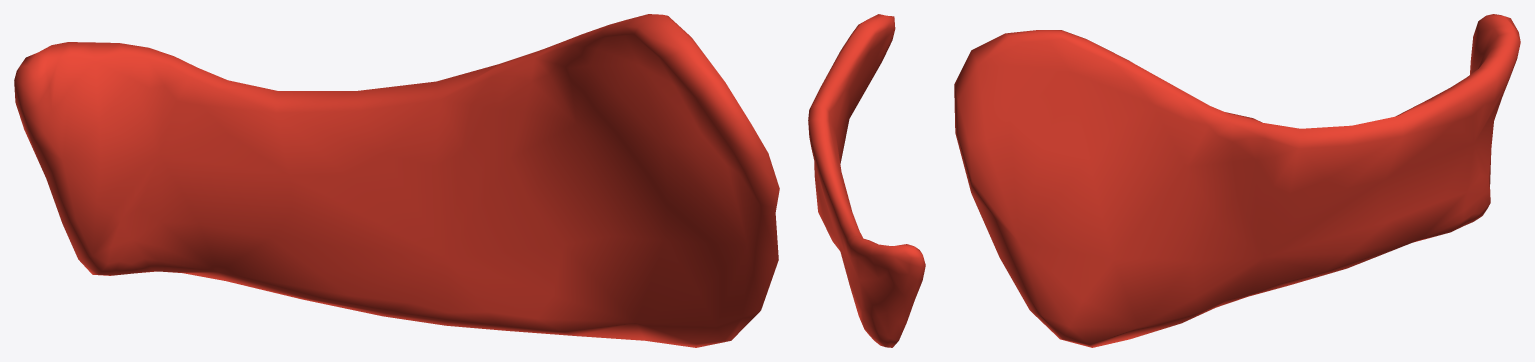
Rendered from Adductor_hallucis_transverse_head_3rd_metatarsal_right.glb.
3 views of the same model, side by side, from view 1: azimuth 30°, elevation 25°; view 2: azimuth 150°, elevation 25°; view 3: azimuth 270°, elevation 25° (orthographic). The views are drawn at different scales.
Visible parts, largest first — view 1: Transverse_head_of_adductor_hallucis_on_3rd_metatarsal_head.; view 2: Transverse_head_of_adductor_hallucis_on_3rd_metatarsal_head.; view 3: Transverse_head_of_adductor_hallucis_on_3rd_metatarsal_head..
Part boxes in pixels (box(x1,y1,x2,y2)): Transverse_head_of_adductor_hallucis_on_3rd_metatarsal_head.: box(14, 14, 779, 347); Transverse_head_of_adductor_hallucis_on_3rd_metatarsal_head.: box(808, 14, 925, 347); Transverse_head_of_adductor_hallucis_on_3rd_metatarsal_head.: box(954, 14, 1520, 347).
Bounding box in the file's own units: 0.00622 × 0.00473 × 0.008.
